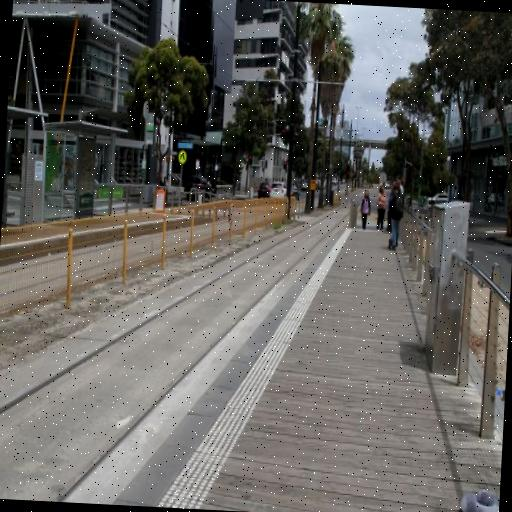clear_path: (112, 226, 432, 512)
handrail: (456, 250, 509, 462), (399, 206, 432, 299)
platform_edge: (108, 224, 349, 507)
tgsi: (160, 226, 353, 504)
